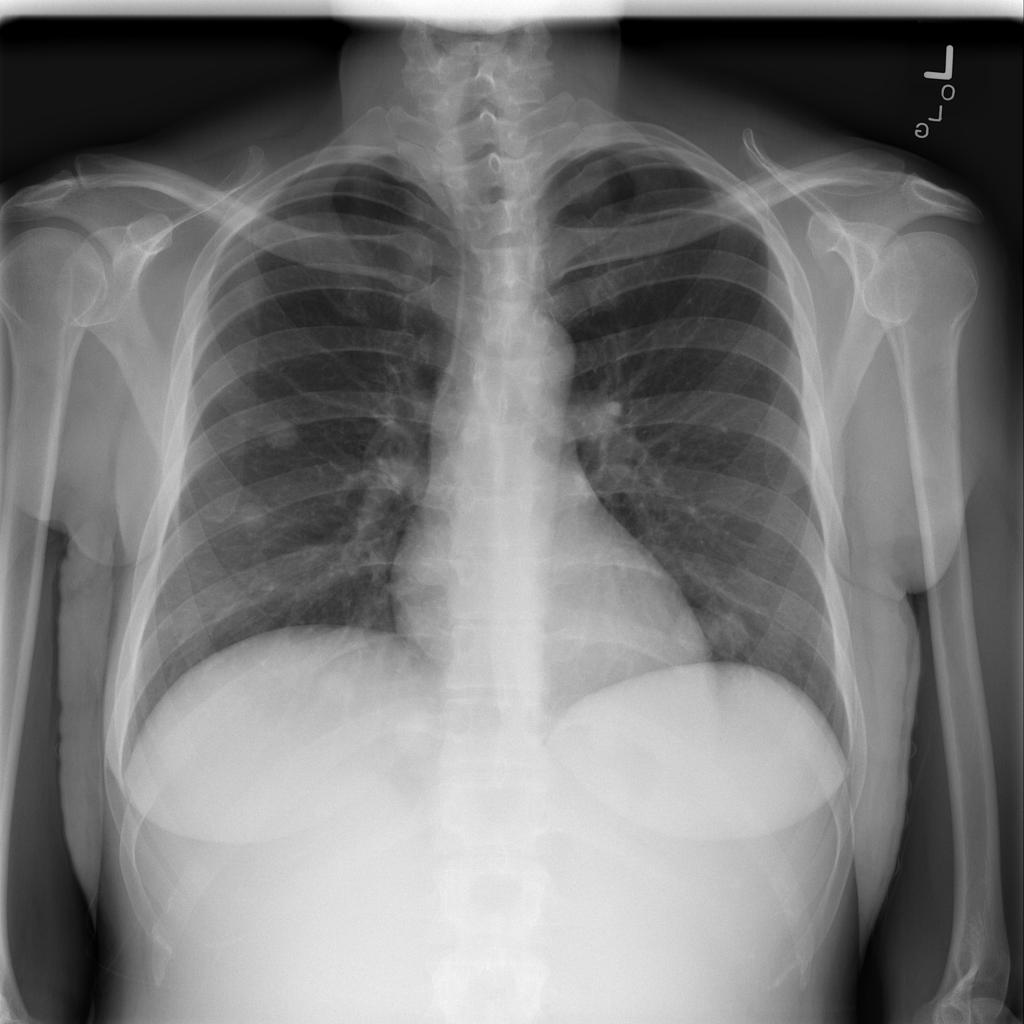nodule: (678, 596, 761, 670), (381, 697, 452, 770), (303, 656, 375, 726), (251, 407, 309, 459), (226, 492, 279, 541)
